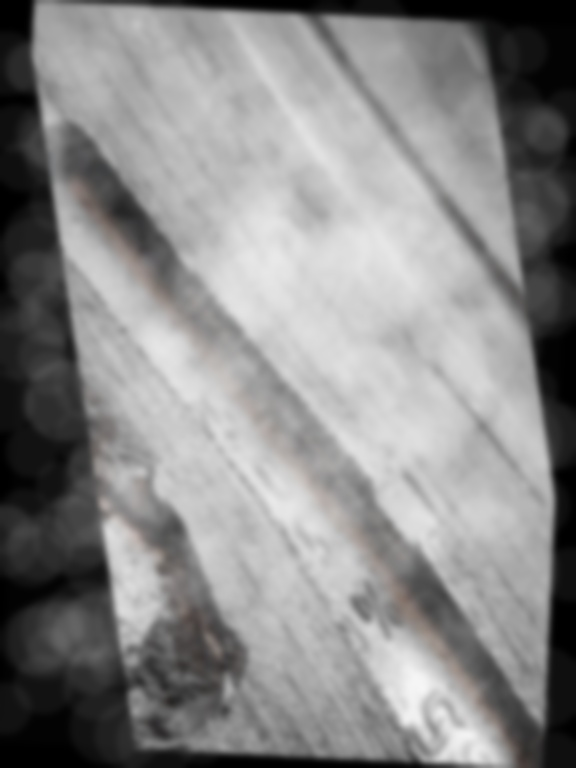temoin:0: (330, 424, 467, 583)
